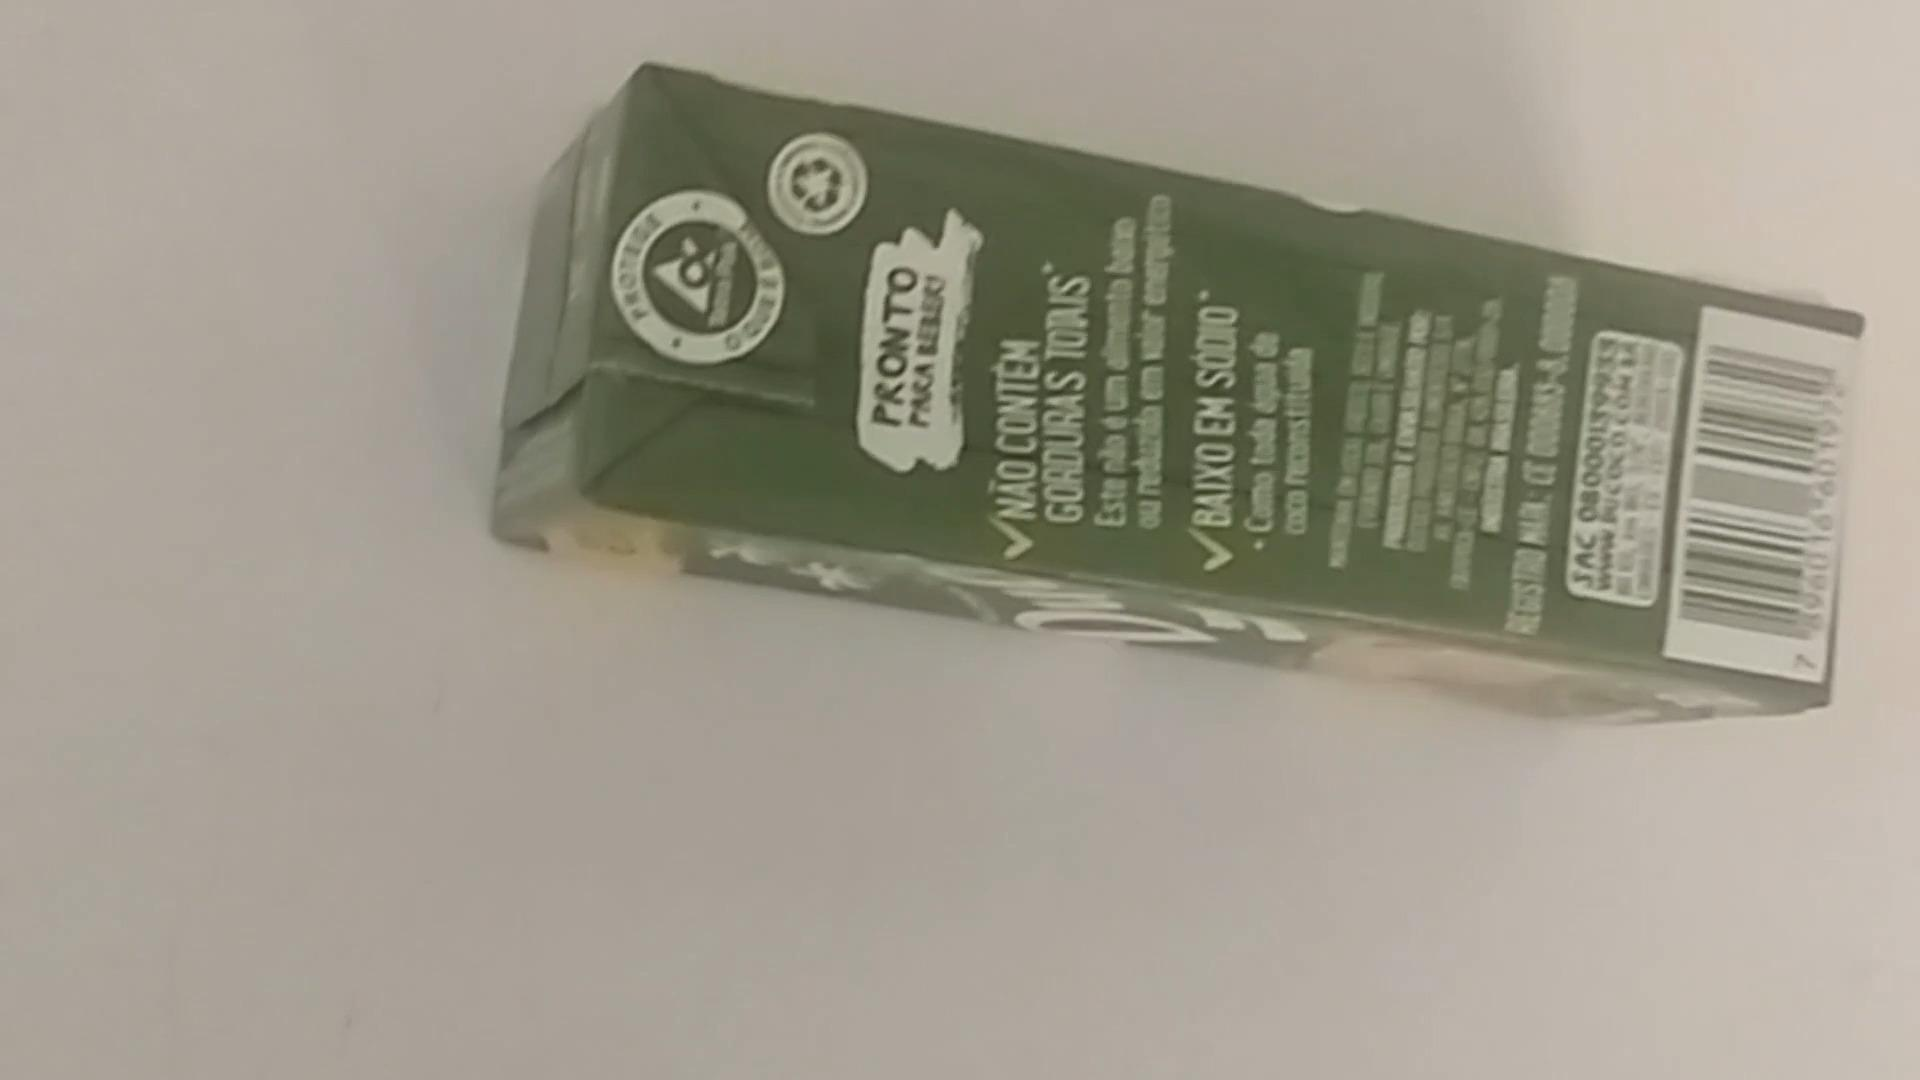coco: (488, 58, 1870, 720)
